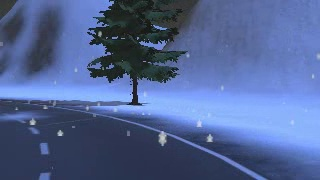Lane: (0, 100, 270, 179)
